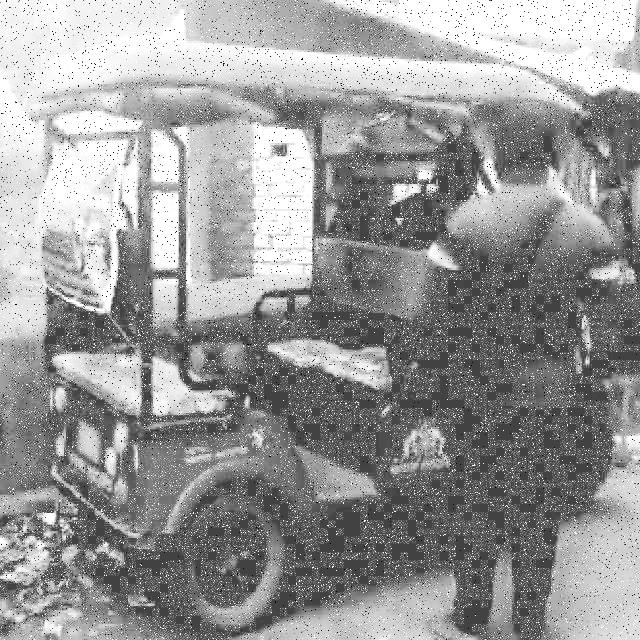Toto: (30, 36, 616, 640)
